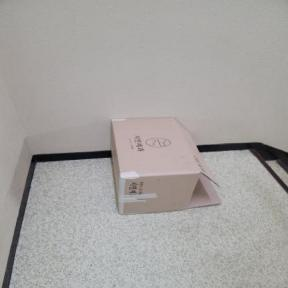box: (107, 112, 228, 216)
